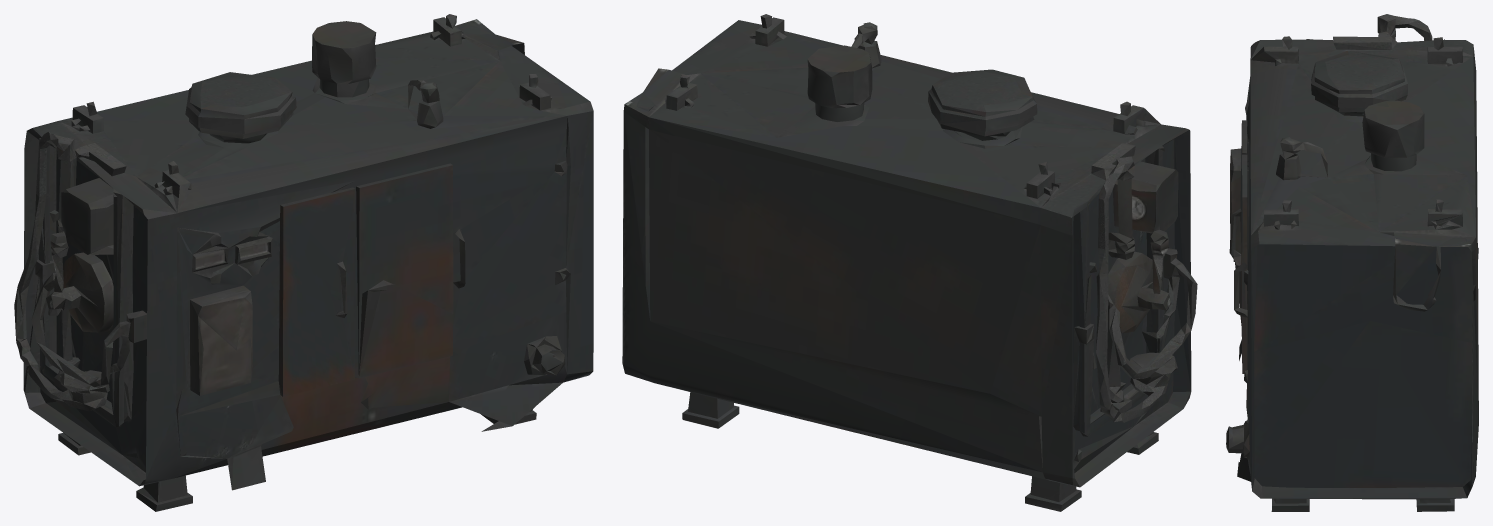
The model's file is generator.glb.
The picture shows the model from 3 angles, left to right: view 1: azimuth 30°, elevation 25°; view 2: azimuth 150°, elevation 25°; view 3: azimuth 270°, elevation 25°; orthographic projection. The views are drawn at different scales.
Bounding box in the file's own units: 2.53 × 1.8 × 1.21.
1 material, 1 textured.
